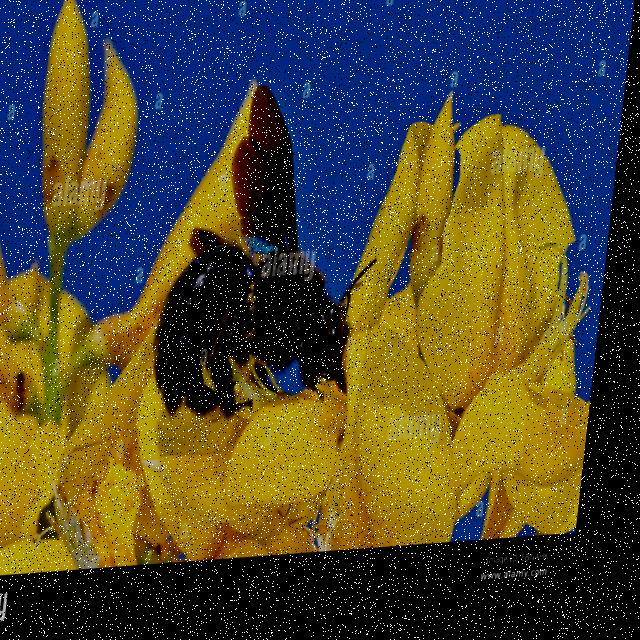Xylocopa: (152, 65, 405, 448)
